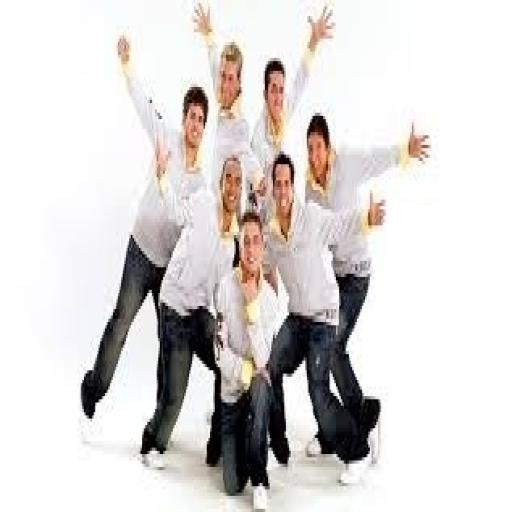dancing: (0, 13, 463, 512)
